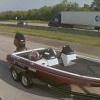Boat: (5, 39, 99, 97)
